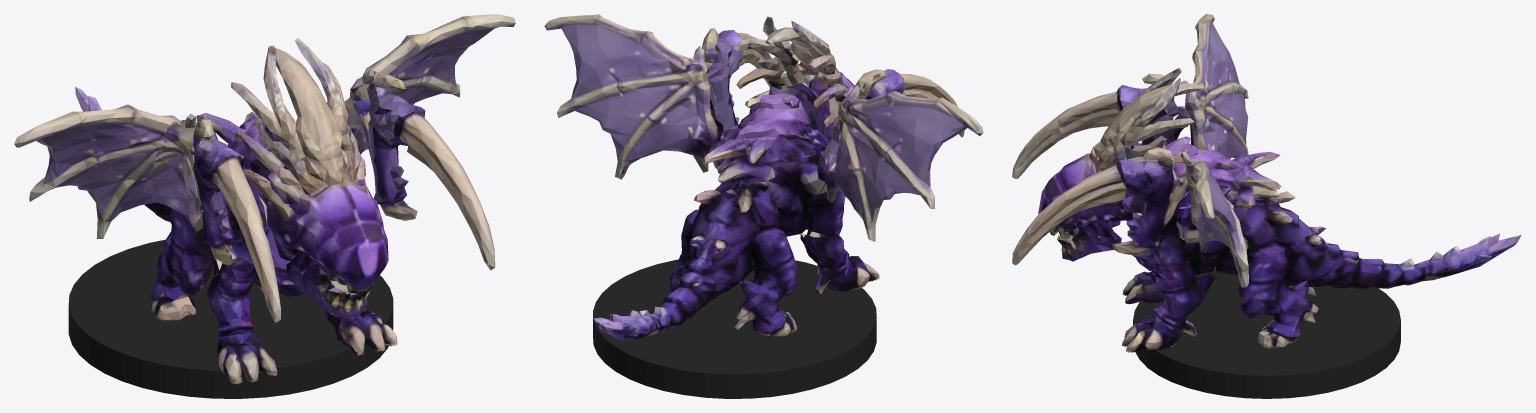
The model's file is kerrigan-swarm-raptor.glb.
The picture shows the model from 3 angles, left to right: view 1: azimuth 30°, elevation 25°; view 2: azimuth 150°, elevation 25°; view 3: azimuth 270°, elevation 25°; orthographic projection. The views are drawn at different scales.
Visible parts, largest first — view 1: figure, base; view 2: figure, base; view 3: figure, base.
Boxes of the visible parts, x1=… form: figure: x1=14, y1=14, x2=515, y2=384; base: x1=68, y1=239, x2=393, y2=398; figure: x1=544, y1=14, x2=983, y2=340; base: x1=593, y1=259, x2=876, y2=398; figure: x1=1012, y1=14, x2=1521, y2=352; base: x1=1133, y1=270, x2=1400, y2=398.
Size of the model in its own units: 2.24 by 1.4 by 2.4.
Materials: 2 (1 with a texture image).
